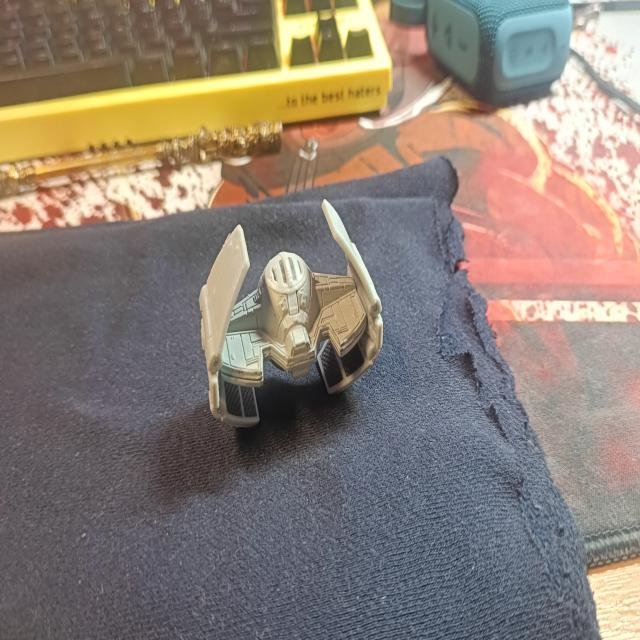tie fighter: (198, 196, 384, 429)
